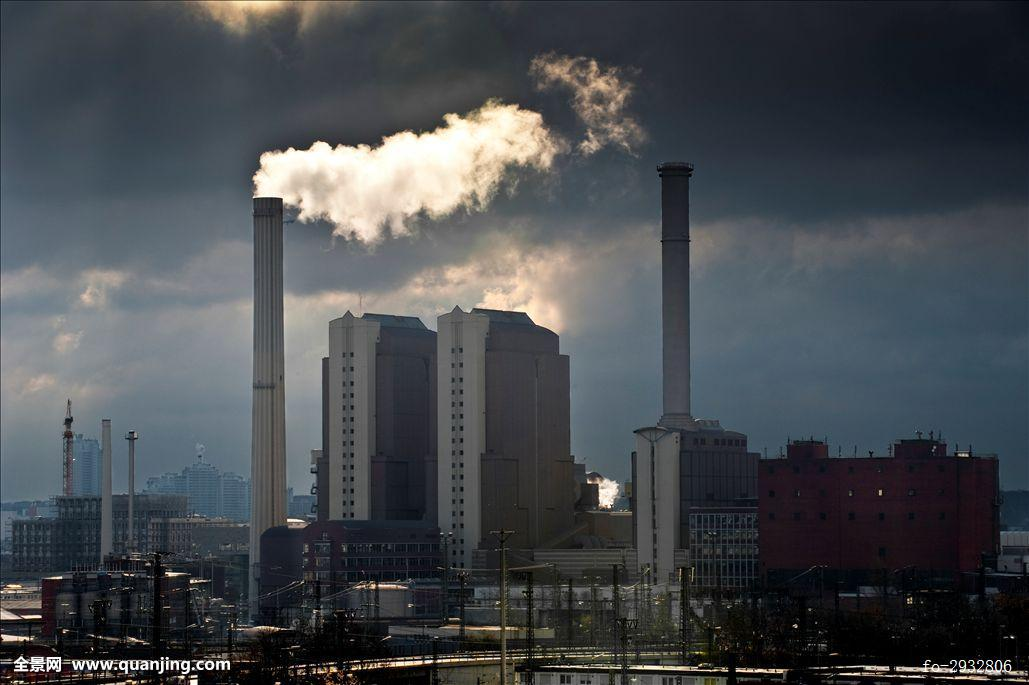dust: (222, 102, 558, 246)
